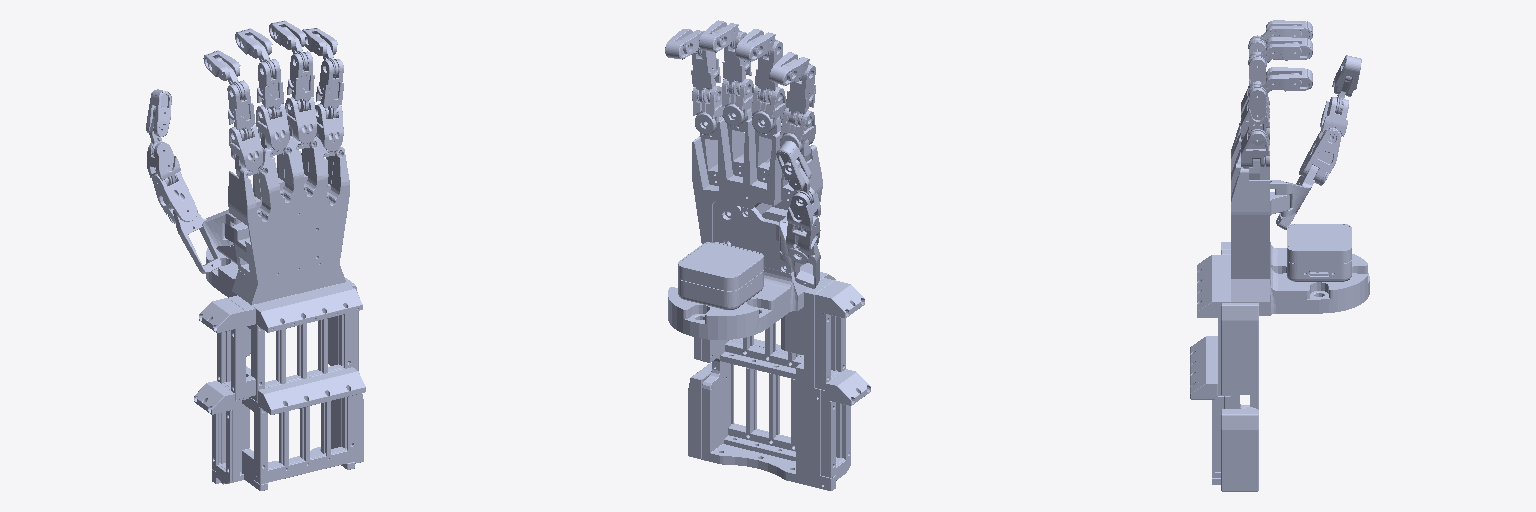
--- Facts derived from the render (not from the file) ---
Views: 3 orthographic renders of the robot side by side, from view 1: azimuth 30°, elevation 25°; view 2: azimuth 150°, elevation 25°; view 3: azimuth 270°, elevation 25°.
Robot: hand_rviz/urdf — 27 links, 26 joints (21 revolute, 5 fixed); root link hand_base_link; default pose: every joint at zero.
Visible links, largest first — view 1: hand_base_link, tcf_link, tca_link, pmf_link, rmf_link, mmf_link, imf_link, mma_link, ima_link, rma_link, tma_link, pma_link (+5 smaller); view 2: hand_base_link, imf_link, pmf_link, mma_link, rma_link, pma_link, tca_link, rmf_link, tma_link, tcf_link, mmf_link, ima_link (+5 smaller); view 3: hand_base_link, tca_link, tcf_link, pdf_link, rdf_link, pma_link, pmf_link, tma_link, mdf_link.
Boxes of the visible links, box(x1,y1,x2,y2) form: hand_base_link: box(194, 126, 365, 490); tcf_link: box(173, 209, 240, 273); tca_link: box(152, 172, 197, 223); pmf_link: box(316, 59, 343, 118); rmf_link: box(287, 51, 314, 111); mmf_link: box(257, 59, 283, 119); imf_link: box(227, 80, 255, 140); mma_link: box(256, 104, 289, 150); ima_link: box(229, 124, 262, 170); rma_link: box(285, 97, 316, 143); tma_link: box(147, 142, 180, 185); pma_link: box(315, 104, 343, 151); hand_base_link: box(668, 108, 870, 490); imf_link: box(786, 64, 815, 125); pmf_link: box(691, 50, 720, 103); mma_link: box(752, 86, 785, 133); rma_link: box(722, 78, 754, 126); pma_link: box(692, 86, 724, 134); tca_link: box(786, 216, 820, 263); rmf_link: box(722, 31, 751, 95); tma_link: box(787, 187, 820, 232); tcf_link: box(779, 217, 820, 288); mmf_link: box(755, 40, 782, 102); ima_link: box(780, 108, 815, 151); hand_base_link: box(1190, 121, 1369, 491); tca_link: box(1299, 129, 1340, 185); tcf_link: box(1270, 165, 1318, 229); pdf_link: box(1266, 67, 1311, 91); rdf_link: box(1266, 37, 1311, 60); pma_link: box(1241, 127, 1269, 166); pmf_link: box(1248, 81, 1266, 137); tma_link: box(1320, 97, 1348, 138); mdf_link: box(1266, 21, 1311, 39).
Bounding box of the posed robot: 0.1185 × 0.1153 × 0.3038 m (x, y, z).
27 mesh visuals loaded from 27 distinct referenced files (27 binary STL).

robot.urdf — hand_rviz/urdf:
<?xml version="1.0" encoding="utf-8"?>
<!-- This URDF was automatically created by SolidWorks to URDF Exporter! Originally created by Stephen Brawner ([email redacted]) 
     Commit Version: 1.6.0-4-g7f85cfe  Build Version: 1.6.7995.38578
     For more information, please see http://wiki.ros.org/sw_urdf_exporter -->
<robot
  name="hand_rviz/urdf">
  <link
    name="hand_base_link">
    <inertial>
      <origin
        xyz="-0.00061429354910202 -0.00944665576411385 0.0223167833764774"
        rpy="0 0 0" />
      <mass
        value="1.38812640347778" />
      <inertia
        ixx="0.000445542321150216"
        ixy="3.50155988030047E-06"
        ixz="4.64398324346647E-07"
        iyy="0.000524208846276378"
        iyz="1.03345252482007E-05"
        izz="0.000497637041063157" />
    </inertial>
    <visual>
      <origin
        xyz="0 0 0"
        rpy="0 0 0" />
      <geometry>
        <mesh
          filename="package://hand_rviz/urdf/meshes/hand_base_link.STL" />
      </geometry>
      <material
        name="">
        <color
          rgba="0.792156862745098 0.819607843137255 0.933333333333333 1" />
      </material>
    </visual>
    <collision>
      <origin
        xyz="0 0 0"
        rpy="0 0 0" />
      <geometry>
        <mesh
          filename="package://hand_rviz/urdf/meshes/hand_base_link.STL" />
      </geometry>
    </collision>
  </link>
  <link
    name="tcf_link">
    <inertial>
      <origin
        xyz="-0.013539870918749 0.00696804614882354 0.000116280993402551"
        rpy="0 0 0" />
      <mass
        value="0.00484999590725353" />
      <inertia
        ixx="7.75462007985153E-07"
        ixy="2.19658485715546E-07"
        ixz="4.35849510085832E-09"
        iyy="9.62045357645233E-07"
        iyz="-1.62755706072683E-07"
        izz="6.84730747333233E-07" />
    </inertial>
    <visual>
      <origin
        xyz="0 0 0"
        rpy="0 0 0" />
      <geometry>
        <mesh
          filename="package://hand_rviz/urdf/meshes/tcf_link.STL" />
      </geometry>
      <material
        name="">
        <color
          rgba="0.792156862745098 0.819607843137255 0.933333333333333 1" />
      </material>
    </visual>
    <collision>
      <origin
        xyz="0 0 0"
        rpy="0 0 0" />
      <geometry>
        <mesh
          filename="package://hand_rviz/urdf/meshes/tcf_link.STL" />
      </geometry>
    </collision>
  </link>
  <joint
    name="tcf_joint"
    type="revolute">
    <origin
      xyz="-0.03245 -0.0217 0.0495"
      rpy="0 0 0" />
    <parent
      link="hand_base_link" />
    <child
      link="tcf_link" />
    <axis
      xyz="0 0 1" />
    <limit
      lower="-1.57"
      upper="0.175"
      effort="0"
      velocity="0" />
  </joint>
  <link
    name="tca_link">
    <inertial>
      <origin
        xyz="0.0104917903510064 -0.000676779323759157 0.00216340571913179"
        rpy="0 0 0" />
      <mass
        value="0.00499478923208696" />
      <inertia
        ixx="2.16030308030573E-07"
        ixy="1.54981546627713E-08"
        ixz="3.4127277536893E-08"
        iyy="5.06187109604147E-07"
        iyz="-6.53335217098174E-10"
        izz="5.03702828276537E-07" />
    </inertial>
    <visual>
      <origin
        xyz="0 0 0"
        rpy="0 0 0" />
      <geometry>
        <mesh
          filename="package://hand_rviz/urdf/meshes/tca_link.STL" />
      </geometry>
      <material
        name="">
        <color
          rgba="0.792156862745098 0.819607843137255 0.933333333333333 1" />
      </material>
    </visual>
    <collision>
      <origin
        xyz="0 0 0"
        rpy="0 0 0" />
      <geometry>
        <mesh
          filename="package://hand_rviz/urdf/meshes/tca_link.STL" />
      </geometry>
    </collision>
  </link>
  <joint
    name="tca_joint"
    type="revolute">
    <origin
      xyz="-0.024 0.01695 0.011491"
      rpy="2.8032 -1.0121 1.9642" />
    <parent
      link="tcf_link" />
    <child
      link="tca_link" />
    <axis
      xyz="0 0 1" />
    <limit
      lower="-0.5"
      upper="1"
      effort="0"
      velocity="0" />
  </joint>
  <link
    name="tma_link">
    <inertial>
      <origin
        xyz="0.00971662082317795 6.7890478227535E-05 0.000726629607537624"
        rpy="0 0 0" />
      <mass
        value="0.00320272686969075" />
      <inertia
        ixx="9.80474055431482E-08"
        ixy="-2.05206873883352E-09"
        ixz="5.83406243383443E-09"
        iyy="1.89906799468114E-07"
        iyz="-8.17308371542074E-11"
        izz="1.95297660560772E-07" />
    </inertial>
    <visual>
      <origin
        xyz="0 0 0"
        rpy="0 0 0" />
      <geometry>
        <mesh
          filename="package://hand_rviz/urdf/meshes/tma_link.STL" />
      </geometry>
      <material
        name="">
        <color
          rgba="0.792156862745098 0.819607843137255 0.933333333333333 1" />
      </material>
    </visual>
    <collision>
      <origin
        xyz="0 0 0"
        rpy="0 0 0" />
      <geometry>
        <mesh
          filename="package://hand_rviz/urdf/meshes/tma_link.STL" />
      </geometry>
    </collision>
  </link>
  <joint
    name="tma_joint"
    type="revolute">
    <origin
      xyz="0.025 -0.0014573 0.0001"
      rpy="-1.5708 0.27479 0" />
    <parent
      link="tca_link" />
    <child
      link="tma_link" />
    <axis
      xyz="0 0 1" />
    <limit
      lower="-1.2"
      upper="0.7"
      effort="0"
      velocity="0" />
  </joint>
  <link
    name="tmf_link">
    <inertial>
      <origin
        xyz="0.010171865697685 -0.00112023068715843 -2.35404821330443E-09"
        rpy="0 0 0" />
      <mass
        value="0.000948811114997913" />
      <inertia
        ixx="8.68411494167366E-09"
        ixy="2.91569669791614E-09"
        ixz="-1.30374967316227E-14"
        iyy="9.65825232359051E-08"
        iyz="-1.9069586142679E-14"
        izz="1.02763635257402E-07" />
    </inertial>
    <visual>
      <origin
        xyz="0 0 0"
        rpy="0 0 0" />
      <geometry>
        <mesh
          filename="package://hand_rviz/urdf/meshes/tmf_link.STL" />
      </geometry>
      <material
        name="">
        <color
          rgba="0.792156862745098 0.819607843137255 0.933333333333333 1" />
      </material>
    </visual>
    <collision>
      <origin
        xyz="0 0 0"
        rpy="0 0 0" />
      <geometry>
        <mesh
          filename="package://hand_rviz/urdf/meshes/tmf_link.STL" />
      </geometry>
    </collision>
  </link>
  <joint
    name="tmf_joint"
    type="revolute">
    <origin
      xyz="0.02 0 0.0015"
      rpy="1.5708 -0.34679 0" />
    <parent
      link="tma_link" />
    <child
      link="tmf_link" />
    <axis
      xyz="0 0 1" />
    <limit
      lower="-0.8"
      upper="1.57"
      effort="0"
      velocity="0" />
  </joint>
  <link
    name="tdf_link">
    <inertial>
      <origin
        xyz="-0.000706794999553423 -7.9780973222171E-05 -0.000112786688034917"
        rpy="0 0 0" />
      <mass
        value="0.00217689228300246" />
      <inertia
        ixx="5.19422563367913E-08"
        ixy="-1.6250540110235E-09"
        ixz="1.45574793265727E-10"
        iyy="1.78158999808894E-07"
        iyz="2.00750263449517E-11"
        izz="1.63515579779239E-07" />
    </inertial>
    <visual>
      <origin
        xyz="0 0 0"
        rpy="0 0 0" />
      <geometry>
        <mesh
          filename="package://hand_rviz/urdf/meshes/tdf_link.STL" />
      </geometry>
      <material
        name="">
        <color
          rgba="0.792156862745098 0.819607843137255 0.933333333333333 1" />
      </material>
    </visual>
    <collision>
      <origin
        xyz="0 0 0"
        rpy="0 0 0" />
      <geometry>
        <mesh
          filename="package://hand_rviz/urdf/meshes/tdf_link.STL" />
      </geometry>
    </collision>
  </link>
  <joint
    name="tdf_joint"
    type="revolute">
    <origin
      xyz="0.025 0 0"
      rpy="0 0 0.1282" />
    <parent
      link="tmf_link" />
    <child
      link="tdf_link" />
    <axis
      xyz="0 0 1" />
    <limit
      lower="0"
      upper="1.25"
      effort="0"
      velocity="0" />
  </joint>
  <link
    name="t_tip_link">
    <inertial>
      <origin
        xyz="-0.00105093780159737 0.00184221193968603 -5.55111512312578E-17"
        rpy="0 0 0" />
      <mass
        value="9.63413917384506E-05" />
      <inertia
        ixx="2.00160190678065E-09"
        ixy="6.47869811757705E-10"
        ixz="-1.12082973000935E-22"
        iyy="1.67304493693404E-09"
        iyz="-5.75439825349878E-23"
        izz="2.11896979425457E-09" />
    </inertial>
    <visual>
      <origin
        xyz="0 0 0"
        rpy="0 0 0" />
      <geometry>
        <mesh
          filename="package://hand_rviz/urdf/meshes/t_tip_link.STL" />
      </geometry>
      <material
        name="">
        <color
          rgba="0.792156862745098 0.819607843137255 0.933333333333333 1" />
      </material>
    </visual>
    <collision>
      <origin
        xyz="0 0 0"
        rpy="0 0 0" />
      <geometry>
        <mesh
          filename="package://hand_rviz/urdf/meshes/t_tip_link.STL" />
      </geometry>
    </collision>
  </link>
  <joint
    name="t_tip"
    type="fixed">
    <origin
      xyz="0.012137 0 0"
      rpy="0 0 0" />
    <parent
      link="tdf_link" />
    <child
      link="t_tip_link" />
    <axis
      xyz="0 0 0" />
  </joint>
  <link
    name="ima_link">
    <inertial>
      <origin
        xyz="0.00545951158432825 -8.86632095186204E-05 0.000675702355864649"
        rpy="0 0 0" />
      <mass
        value="0.00377097433248701" />
      <inertia
        ixx="1.92751114104043E-07"
        ixy="3.86822225253668E-09"
        ixz="1.50761022617964E-08"
        iyy="2.98859727376661E-07"
        iyz="-5.17909336999065E-10"
        izz="2.60279404999028E-07" />
    </inertial>
    <visual>
      <origin
        xyz="0 0 0"
        rpy="0 0 0" />
      <geometry>
        <mesh
          filename="package://hand_rviz/urdf/meshes/ima_link.STL" />
      </geometry>
      <material
        name="">
        <color
          rgba="0.792156862745098 0.819607843137255 0.933333333333333 1" />
      </material>
    </visual>
    <collision>
      <origin
        xyz="0 0 0"
        rpy="0 0 0" />
      <geometry>
        <mesh
          filename="package://hand_rviz/urdf/meshes/ima_link.STL" />
      </geometry>
    </collision>
  </link>
  <joint
    name="ima_joint"
    type="revolute">
    <origin
      xyz="-0.030085 -0.0405 0.11024"
      rpy="-1.5708 -1.4573 -3.1416" />
    <parent
      link="hand_base_link" />
    <child
      link="ima_link" />
    <axis
      xyz="0 0 1" />
    <limit
      lower="-0.436"
      upper="0.436"
      effort="0"
      velocity="0" />
  </joint>
  <link
    name="imf_link">
    <inertial>
      <origin
        xyz="0.0153264557799375 0.000131170231311643 -0.000214215913830931"
        rpy="0 0 0" />
      <mass
        value="0.0035062778446748" />
      <inertia
        ixx="7.49209010355308E-08"
        ixy="-2.77275284746543E-10"
        ixz="-1.59748477244705E-08"
        iyy="3.79952976568586E-07"
        iyz="4.5076371900946E-11"
        izz="3.76775898526847E-07" />
    </inertial>
    <visual>
      <origin
        xyz="0 0 0"
        rpy="0 0 0" />
      <geometry>
        <mesh
          filename="package://hand_rviz/urdf/meshes/imf_link.STL" />
      </geometry>
      <material
        name="">
        <color
          rgba="0.792156862745098 0.819607843137255 0.933333333333333 1" />
      </material>
    </visual>
    <collision>
      <origin
        xyz="0 0 0"
        rpy="0 0 0" />
      <geometry>
        <mesh
          filename="package://hand_rviz/urdf/meshes/imf_link.STL" />
      </geometry>
    </collision>
  </link>
  <joint
    name="imf_joint"
    type="revolute">
    <origin
      xyz="0.017 0 -0.000875"
      rpy="-1.5708 0 0" />
    <parent
      link="ima_link" />
    <child
      link="imf_link" />
    <axis
      xyz="0 0 1" />
    <limit
      lower="-1.57"
      upper="1.57"
      effort="0"
      velocity="0" />
  </joint>
  <link
    name="ipf_link">
    <inertial>
      <origin
        xyz="0.0110133857157522 -0.0013539573318288 4.13325360743011E-09"
        rpy="0 0 0" />
      <mass
        value="0.00108838501206663" />
      <inertia
        ixx="1.06723406101794E-08"
        ixy="4.161856826029E-09"
        ixz="1.47097799559351E-14"
        iyy="1.13635444630545E-07"
        iyz="-1.2894056068084E-14"
        izz="1.21308280596702E-07" />
    </inertial>
    <visual>
      <origin
        xyz="0 0 0"
        rpy="0 0 0" />
      <geometry>
        <mesh
          filename="package://hand_rviz/urdf/meshes/ipf_link.STL" />
      </geometry>
      <material
        name="">
        <color
          rgba="0.792156862745098 0.819607843137255 0.933333333333333 1" />
      </material>
    </visual>
    <collision>
      <origin
        xyz="0 0 0"
        rpy="0 0 0" />
      <geometry>
        <mesh
          filename="package://hand_rviz/urdf/meshes/ipf_link.STL" />
      </geometry>
    </collision>
  </link>
  <joint
    name="ipf_joint"
    type="revolute">
    <origin
      xyz="0.031 0 0"
      rpy="0 0 1.1732" />
    <parent
      link="imf_link" />
    <child
      link="ipf_link" />
    <axis
      xyz="0 0 1" />
    <limit
      lower="-0.873"
      upper="1.57"
      effort="0"
      velocity="0" />
  </joint>
  <link
    name="idf_link">
    <inertial>
      <origin
        xyz="-0.00394721683074047 -0.000117912503330819 -0.00010306810364947"
        rpy="0 0 0" />
      <mass
        value="0.00213606646468497" />
      <inertia
        ixx="5.3704768389118E-08"
        ixy="-1.93680982279683E-09"
        ixz="8.38611839998589E-10"
        iyy="1.74117816677213E-07"
        iyz="2.63400446821E-11"
        izz="1.56263328704583E-07" />
    </inertial>
    <visual>
      <origin
        xyz="0 0 0"
        rpy="0 0 0" />
      <geometry>
        <mesh
          filename="package://hand_rviz/urdf/meshes/idf_link.STL" />
      </geometry>
      <material
        name="">
        <color
          rgba="0.792156862745098 0.819607843137255 0.933333333333333 1" />
      </material>
    </visual>
    <collision>
      <origin
        xyz="0 0 0"
        rpy="0 0 0" />
      <geometry>
        <mesh
          filename="package://hand_rviz/urdf/meshes/idf_link.STL" />
      </geometry>
    </collision>
  </link>
  <joint
    name="idf_joint"
    type="revolute">
    <origin
      xyz="0.02618 0 0"
      rpy="0 0 0.39762" />
    <parent
      link="ipf_link" />
    <child
      link="idf_link" />
    <axis
      xyz="0 0 1" />
    <limit
      lower="0"
      upper="1.25"
      effort="0"
      velocity="0" />
  </joint>
  <link
    name="i_tip_link">
    <inertial>
      <origin
        xyz="-0.00104592121213919 0.0018422237895932 -2.22478285794026E-16"
        rpy="0 0 0" />
      <mass
        value="9.6341391738565E-05" />
      <inertia
        ixx="2.00160190678836E-09"
        ixy="6.47869811756371E-10"
        ixz="-1.91247415125344E-23"
        iyy="1.67304493693434E-09"
        iyz="9.93617980697945E-24"
        izz="2.11896979425816E-09" />
    </inertial>
    <visual>
      <origin
        xyz="0 0 0"
        rpy="0 0 0" />
      <geometry>
        <mesh
          filename="package://hand_rviz/urdf/meshes/i_tip_link.STL" />
      </geometry>
      <material
        name="">
        <color
          rgba="0.792156862745098 0.819607843137255 0.933333333333333 1" />
      </material>
    </visual>
    <collision>
      <origin
        xyz="0 0 0"
        rpy="0 0 0" />
      <geometry>
        <mesh
          filename="package://hand_rviz/urdf/meshes/i_tip_link.STL" />
      </geometry>
    </collision>
  </link>
  <joint
    name="i_tip"
    type="fixed">
    <origin
      xyz="0.0091323 0 0"
      rpy="0 0 0" />
    <parent
      link="idf_link" />
    <child
      link="i_tip_link" />
    <axis
      xyz="0 0 0" />
  </joint>
  <link
    name="mma_link">
    <inertial>
      <origin
        xyz="0.00545950849170132 -8.86601109218194E-05 0.000675701372274671"
        rpy="0 0 0" />
      <mass
        value="0.00377096877435373" />
      <inertia
        ixx="1.927510016226E-07"
        ixy="3.86819116341496E-09"
        ixz="1.50761562051395E-08"
        iyy="2.98859651077226E-07"
        iyz="-5.17843628266035E-10"
        izz="2.60279335278557E-07" />
    </inertial>
    <visual>
      <origin
        xyz="0 0 0"
        rpy="0 0 0" />
      <geometry>
        <mesh
          filename="package://hand_rviz/urdf/meshes/mma_link.STL" />
      </geometry>
      <material
        name="">
        <color
          rgba="0.792156862745098 0.819607843137255 0.933333333333333 1" />
      </material>
    </visual>
    <collision>
      <origin
        xyz="0 0 0"
        rpy="0 0 0" />
      <geometry>
        <mesh
          filename="package://hand_rviz/urdf/meshes/mma_link.STL" />
      </geometry>
    </collision>
  </link>
  <joint
    name="mma_joint"
    type="revolute">
    <origin
      xyz="-0.010267 -0.0405 0.12046"
      rpy="-1.5708 -1.5272 -3.1416" />
    <parent
      link="hand_base_link" />
    <child
      link="mma_link" />
    <axis
      xyz="0 0 1" />
    <limit
      lower="-0.436"
      upper="0.436"
      effort="0"
      velocity="0" />
  </joint>
  <link
    name="mmf_link">
    <inertial>
      <origin
        xyz="0.0153264556897269 0.000131170217745144 -0.000214215930973235"
        rpy="0 0 0" />
      <mass
        value="0.0035062779381524" />
      <inertia
        ixx="7.4920901109795E-08"
        ixy="-2.7727486019509E-10"
        ixz="-1.59748485638189E-08"
        iyy="3.79952977330562E-07"
        iyz="4.50761274008323E-11"
        izz="3.76775899218745E-07" />
    </inertial>
    <visual>
      <origin
        xyz="0 0 0"
        rpy="0 0 0" />
      <geometry>
        <mesh
          filename="package://hand_rviz/urdf/meshes/mmf_link.STL" />
      </geometry>
      <material
        name="">
        <color
          rgba="0.792156862745098 0.819607843137255 0.933333333333333 1" />
      </material>
    </visual>
    <collision>
      <origin
        xyz="0 0 0"
        rpy="0 0 0" />
      <geometry>
        <mesh
          filename="package://hand_rviz/urdf/meshes/mmf_link.STL" />
      </geometry>
    </collision>
  </link>
  <joint
    name="mmf_joint"
    type="revolute">
    <origin
      xyz="0.017 0 -0.000875"
      rpy="-1.5708 0 0" />
    <parent
      link="mma_link" />
    <child
      link="mmf_link" />
    <axis
      xyz="0 0 1" />
    <limit
      lower="-1.57"
      upper="1.57"
      effort="0"
      velocity="0" />
  </joint>
  <link
    name="mpf_link">
    <inertial>
      <origin
        xyz="0.0110133857157522 -0.0013539573318288 4.13325359376916E-09"
        rpy="0 0 0" />
      <mass
        value="0.00108838501206664" />
      <inertia
        ixx="1.06723406101795E-08"
        ixy="4.16185682602903E-09"
        ixz="1.47097800929716E-14"
        iyy="1.13635444630546E-07"
        iyz="-1.28940560733662E-14"
        izz="1.21308280596703E-07" />
    </inertial>
    <visual>
      <origin
        xyz="0 0 0"
        rpy="0 0 0" />
      <geometry>
        <mesh
          filename="package://hand_rviz/urdf/meshes/mpf_link.STL" />
      </geometry>
      <material
        name="">
        <color
          rgba="0.792156862745098 0.819607843137255 0.933333333333333 1" />
      </material>
    </visual>
    <collision>
      <origin
        xyz="0 0 0"
        rpy="0 0 0" />
      <geometry>
        <mesh
          filename="package://hand_rviz/urdf/meshes/mpf_link.STL" />
      </geometry>
    </collision>
  </link>
  <joint
    name="mpf_joint"
    type="revolute">
    <origin
      xyz="0.031 0 0"
      rpy="0 0 1.1732" />
    <parent
      link="mmf_link" />
    <child
      link="mpf_link" />
    <axis
      xyz="0 0 1" />
    <limit
      lower="-0.873"
      upper="1.57"
      effort="0"
      velocity="0" />
  </joint>
  <link
    name="mdf_link">
    <inertial>
      <origin
        xyz="-0.00394721684620039 -0.000117912464608128 -0.000103068054280695"
        rpy="0 0 0" />
      <mass
        value="0.00213606647535568" />
      <inertia
        ixx="5.37047707729127E-08"
        ixy="-1.93681092637364E-09"
        ixz="8.38611194263258E-10"
        iyy="1.74117815271046E-07"
        iyz="2.63402321380885E-11"
        izz="1.56263329372874E-07" />
    </inertial>
    <visual>
      <origin
        xyz="0 0 0"
        rpy="0 0 0" />
      <geometry>
        <mesh
          filename="package://hand_rviz/urdf/meshes/mdf_link.STL" />
      </geometry>
      <material
        name="">
        <color
          rgba="0.792156862745098 0.819607843137255 0.933333333333333 1" />
      </material>
    </visual>
    <collision>
      <origin
        xyz="0 0 0"
        rpy="0 0 0" />
      <geometry>
        <mesh
          filename="package://hand_rviz/urdf/meshes/mdf_link.STL" />
      </geometry>
    </collision>
  </link>
  <joint
    name="mdf_joint"
    type="revolute">
    <origin
      xyz="0.02618 0 0"
      rpy="0 0 0.39762" />
    <parent
      link="mpf_link" />
    <child
      link="mdf_link" />
    <axis
      xyz="0 0 1" />
    <limit
      lower="0"
      upper="1.25"
      effort="0"
      velocity="0" />
  </joint>
  <link
    name="m_tip_link">
    <inertial>
      <origin
        xyz="-0.00104592121213915 0.00184222378959342 -4.40945023549855E-16"
        rpy="0 0 0" />
      <mass
        value="9.63413917385605E-05" />
      <inertia
        ixx="2.0016019067882E-09"
        ixy="6.47869811756382E-10"
        ixz="5.24862299752905E-24"
        iyy="1.67304493693433E-09"
        iyz="-1.38679189130499E-23"
        izz="2.11896979425803E-09" />
    </inertial>
    <visual>
      <origin
        xyz="0 0 0"
        rpy="0 0 0" />
      <geometry>
        <mesh
          filename="package://hand_rviz/urdf/meshes/m_tip_link.STL" />
      </geometry>
      <material
        name="">
        <color
          rgba="0.792156862745098 0.819607843137255 0.933333333333333 1" />
      </material>
    </visual>
    <collision>
      <origin
        xyz="0 0 0"
        rpy="0 0 0" />
      <geometry>
        <mesh
          filename="package://hand_rviz/urdf/meshes/m_tip_link.STL" />
      </geometry>
    </collision>
  </link>
  <joint
    name="m_tip"
    type="fixed">
    <origin
      xyz="0.0091323 0 0"
      rpy="0 0 0" />
    <parent
      link="mdf_link" />
    <child
      link="m_tip_link" />
    <axis
      xyz="0 0 0" />
  </joint>
  <link
    name="rma_link">
    <inertial>
      <origin
        xyz="0.00545951269553185 -8.86616255767764E-05 0.000675699929609706"
        rpy="0 0 0" />
      <mass
        value="0.00377097155039619" />
      <inertia
        ixx="1.92751094137635E-07"
        ixy="3.86811200554875E-09"
        ixz="1.5076223370178E-08"
        iyy="2.98859812161307E-07"
        iyz="-5.17724319697699E-10"
        izz="2.60279479059688E-07" />
    </inertial>
    <visual>
      <origin
        xyz="0 0 0"
        rpy="0 0 0" />
      <geometry>
        <mesh
          filename="package://hand_rviz/urdf/meshes/rma_link.STL" />
      </geometry>
      <material
        name="">
        <color
          rgba="0.792156862745098 0.819607843137255 0.933333333333333 1" />
      </material>
    </visual>
    <collision>
      <origin
        xyz="0 0 0"
        rpy="0 0 0" />
      <geometry>
        <mesh
          filename="package://hand_rviz/urdf/meshes/rma_link.STL" />
      </geometry>
    </collision>
  </link>
  <joint
    name="rma_joint"
    type="revolute">
    <origin
      xyz="0.010267 -0.0405 0.12046"
      rpy="1.5708 -1.5272 0" />
    <parent
      link="hand_base_link" />
    <child
      link="rma_link" />
    <axis
      xyz="0 0 1" />
    <limit
      lower="-0.436"
      upper="0.436"
      effort="0"
      velocity="0" />
  </joint>
  <link
    name="rmf_link">
    <inertial>
      <origin
        xyz="0.0153264556311606 0.000131170224199759 -0.000214215922257998"
        rpy="0 0 0" />
      <mass
        value="0.00350627800305113" />
      <inertia
        ixx="7.49209011449323E-08"
        ixy="-2.77274109498896E-10"
        ixz="-1.59748486218069E-08"
        iyy="3.79952978018082E-07"
        iyz="4.50759710300356E-11"
        izz="3.76775899854073E-07" />
    </inertial>
    <visual>
      <origin
        xyz="0 0 0"
        rpy="0 0 0" />
      <geometry>
        <mesh
          filename="package://hand_rviz/urdf/meshes/rmf_link.STL" />
      </geometry>
      <material
        name="">
        <color
          rgba="0.792156862745098 0.819607843137255 0.933333333333333 1" />
      </material>
    </visual>
    <collision>
      <origin
        xyz="0 0 0"
        rpy="0 0 0" />
      <geometry>
        <mesh
          filename="package://hand_rviz/urdf/meshes/rmf_link.STL" />
      </geometry>
    </collision>
  </link>
  <joint
    name="rmf_joint"
    type="revolute">
    <origin
      xyz="0.017 0 -0.000875"
      rpy="-1.5708 0 0" />
    <parent
      link="rma_link" />
    <child
      link="rmf_link" />
    <axis
      xyz="0 0 1" />
    <limit
      lower="-1.57"
      upper="1.57"
      effort="0"
      velocity="0" />
  </joint>
  <link
    name="rpf_link">
    <inertial>
      <origin
        xyz="0.0110133857157522 -0.00135395733182886 4.13325358357766E-09"
        rpy="0 0 0" />
      <mass
        value="0.00108838501206664" />
      <inertia
        ixx="1.06723406101795E-08"
        ixy="4.16185682602892E-09"
        ixz="1.47097800308918E-14"
        iyy="1.13635444630547E-07"
        iyz="-1.28940560734154E-14"
        izz="1.21308280596703E-07" />
    </inertial>
    <visual>
      <origin
        xyz="0 0 0"
        rpy="0 0 0" />
      <geometry>
        <mesh
          filename="package://hand_rviz/urdf/meshes/rpf_link.STL" />
      </geometry>
      <material
        name="">
        <color
          rgba="0.792156862745098 0.819607843137255 0.933333333333333 1" />
      </material>
    </visual>
    <collision>
      <origin
        xyz="0 0 0"
        rpy="0 0 0" />
      <geometry>
        <mesh
          filename="package://hand_rviz/urdf/meshes/rpf_link.STL" />
      </geometry>
    </collision>
  </link>
  <joint
    name="rpf_joint"
    type="revolute">
    <origin
      xyz="0.031 0 0"
      rpy="0 0 1.17317577259539" />
    <parent
      link="rmf_link" />
    <child
      link="rpf_link" />
    <axis
      xyz="0 0 1" />
    <limit
      lower="-0.873"
      upper="1.57"
      effort="0"
      velocity="0" />
  </joint>
  <link
    name="rdf_link">
    <inertial>
      <origin
        xyz="-0.00394721685418632 -0.000117912489628058 -0.000103068004632037"
        rpy="0 0 0" />
      <mass
        value="0.002136066487395" />
      <inertia
        ixx="5.37047728994674E-08"
        ixy="-1.93681073233007E-09"
        ixz="8.3861055476539E-10"
        iyy="1.74117814198901E-07"
        iyz="2.63403970018723E-11"
        izz="1.5626333008088E-07" />
    </inertial>
    <visual>
      <origin
        xyz="0 0 0"
        rpy="0 0 0" />
      <geometry>
        <mesh
          filename="package://hand_rviz/urdf/meshes/rdf_link.STL" />
      </geometry>
      <material
        name="">
        <color
          rgba="0.792156862745098 0.819607843137255 0.933333333333333 1" />
      </material>
    </visual>
    <collision>
      <origin
        xyz="0 0 0"
        rpy="0 0 0" />
      <geometry>
        <mesh
          filename="package://hand_rviz/urdf/meshes/rdf_link.STL" />
      </geometry>
    </collision>
  </link>
  <joint
    name="rdf_joint"
    type="revolute">
    <origin
      xyz="0.02618 0 0"
      rpy="0 0 0.397620554199504" />
    <parent
      link="rpf_link" />
    <child
      link="rdf_link" />
    <axis
      xyz="0 0 1" />
    <limit
      lower="0"
      upper="1.25"
      effort="0"
      velocity="0" />
  </joint>
  <link
    name="r_tip_link">
    <inertial>
      <origin
        xyz="-0.00104592121213923 0.00184222378959314 -4.44414470501808E-16"
        rpy="0 0 0" />
      <mass
        value="9.63413917385707E-05" />
      <inertia
        ixx="2.0016019067885E-09"
        ixy="6.47869811756383E-10"
        ixz="7.57635645960032E-24"
        iyy="1.67304493693444E-09"
        iyz="-9.39810472323535E-24"
        izz="2.11896979425827E-09" />
    </inertial>
    <visual>
      <origin
        xyz="0 0 0"
        rpy="0 0 0" />
      <geometry>
        <mesh
          filename="package://hand_rviz/urdf/meshes/r_tip_link.STL" />
      </geometry>
      <material
        name="">
        <color
          rgba="0.792156862745098 0.819607843137255 0.933333333333333 1" />
      </material>
    </visual>
    <collision>
      <origin
        xyz="0 0 0"
        rpy="0 0 0" />
      <geometry>
        <mesh
          filename="package://hand_rviz/urdf/meshes/r_tip_link.STL" />
      </geometry>
    </collision>
  </link>
  <joint
    name="r_tip"
    type="fixed">
    <origin
      xyz="0.00913233682828257 0 0"
      rpy="0 0 0" />
    <parent
      link="rdf_link" />
    <child
      link="r_tip_link" />
    <axis
      xyz="0 0 0" />
  </joint>
  <link
    name="pma_link">
    <inertial>
      <origin
        xyz="0.0054595149828438 -8.86628775930531E-05 0.000675699122759423"
        rpy="0 0 0" />
      <mass
        value="0.00377097300672915" />
      <inertia
        ixx="1.92751149082069E-07"
        ixy="3.86809745111146E-09"
        ixz="1.50762369878534E-08"
        iyy="2.98859887634649E-07"
        iyz="-5.17695482481916E-10"
        izz="2.60279570555227E-07" />
    </inertial>
    <visual>
      <origin
        xyz="0 0 0"
        rpy="0 0 0" />
      <geometry>
        <mesh
          filename="package://hand_rviz/urdf/meshes/pma_link.STL" />
      </geometry>
      <material
        name="">
        <color
          rgba="0.792156862745098 0.819607843137255 0.933333333333333 1" />
      </material>
    </visual>
    <collision>
      <origin
        xyz="0 0 0"
        rpy="0 0 0" />
      <geometry>
        <mesh
          filename="package://hand_rviz/urdf/meshes/pma_link.STL" />
      </geometry>
    </collision>
  </link>
  <joint
    name="pma_joint"
    type="revolute">
    <origin
      xyz="0.030085 -0.0405 0.11024"
      rpy="1.5708 -1.4573 0" />
    <parent
      link="hand_base_link" />
    <child
      link="pma_link" />
    <axis
      xyz="0 0 1" />
    <limit
      lower="-0.436"
      upper="0.436"
      effort="0"
      velocity="0" />
  </joint>
  <link
    name="pmf_link">
    <inertial>
      <origin
        xyz="0.0153264556452624 0.00013117022966441 -0.000214215915456326"
        rpy="0 0 0" />
      <mass
        value="0.00350627798987508" />
      <inertia
        ixx="7.49209011315719E-08"
        ixy="-2.7727406878371E-10"
        ixz="-1.59748483877381E-08"
        iyy="3.799529779382E-07"
        iyz="4.50760084554193E-11"
        izz="3.76775899782436E-07" />
    </inertial>
    <visual>
      <origin
        xyz="0 0 0"
        rpy="0 0 0" />
      <geometry>
        <mesh
          filename="package://hand_rviz/urdf/meshes/pmf_link.STL" />
      </geometry>
      <material
        name="">
        <color
          rgba="0.792156862745098 0.819607843137255 0.933333333333333 1" />
      </material>
    </visual>
    <collision>
      <origin
        xyz="0 0 0"
        rpy="0 0 0" />
      <geometry>
        <mesh
          filename="package://hand_rviz/urdf/meshes/pmf_link.STL" />
      </geometry>
    </collision>
  </link>
  <joint
    name="pmf_joint"
    type="revolute">
    <origin
      xyz="0.017 0 -0.000875"
      rpy="-1.5707963267949 0 0" />
    <parent
      link="pma_link" />
    <child
      link="pmf_link" />
    <axis
      xyz="0 0 1" />
    <limit
      lower="-1.57"
      upper="1.57"
      effort="0"
      velocity="0" />
  </joint>
  <link
    name="ppf_link">
    <inertial>
      <origin
        xyz="0.0110133857157522 -0.0013539573318288 4.13325359225128E-09"
        rpy="0 0 0" />
      <mass
        value="0.00108838501206663" />
      <inertia
        ixx="1.06723406101795E-08"
        ixy="4.16185682602898E-09"
        ixz="1.47097801103414E-14"
        iyy="1.13635444630546E-07"
        iyz="-1.28940560820316E-14"
        izz="1.21308280596702E-07" />
    </inertial>
    <visual>
      <origin
        xyz="0 0 0"
        rpy="0 0 0" />
      <geometry>
        <mesh
          filename="package://hand_rviz/urdf/meshes/ppf_link.STL" />
      </geometry>
      <material
        name="">
        <color
          rgba="0.792156862745098 0.819607843137255 0.933333333333333 1" />
      </material>
    </visual>
    <collision>
      <origin
        xyz="0 0 0"
        rpy="0 0 0" />
      <geometry>
        <mesh
          filename="package://hand_rviz/urdf/meshes/ppf_link.STL" />
      </geometry>
    </collision>
  </link>
  <joint
    name="ppf_joint"
    type="revolute">
    <origin
      xyz="0.031 0 0"
      rpy="0 0 1.17317577259539" />
    <parent
      link="pmf_link" />
    <child
      link="ppf_link" />
    <axis
      xyz="0 0 1" />
    <limit
      lower="-0.873"
      upper="1.57"
      effort="0"
      velocity="0" />
  </joint>
  <link
    name="pdf_link">
    <inertial>
      <origin
        xyz="-0.00394721685373974 -0.000117912575368528 -0.000103067960665844"
        rpy="0 0 0" />
      <mass
        value="0.00213606649935726" />
      <inertia
        ixx="5.37047745131982E-08"
        ixy="-1.93680926392119E-09"
        ixz="8.38609998331635E-10"
        iyy="1.74117813589534E-07"
        iyz="2.63405188882414E-11"
        izz="1.56263330743312E-07" />
    </inertial>
    <visual>
      <origin
        xyz="0 0 0"
        rpy="0 0 0" />
      <geometry>
        <mesh
          filename="package://hand_rviz/urdf/meshes/pdf_link.STL" />
      </geometry>
      <material
        name="">
        <color
          rgba="0.792156862745098 0.819607843137255 0.933333333333333 1" />
      </material>
    </visual>
    <collision>
      <origin
        xyz="0 0 0"
        rpy="0 0 0" />
      <geometry>
        <mesh
          filename="package://hand_rviz/urdf/meshes/pdf_link.STL" />
      </geometry>
    </collision>
  </link>
  <joint
    name="pdf_joint"
    type="revolute">
    <origin
      xyz="0.02618 0 0"
      rpy="0 0 0.397620554199505" />
    <parent
      link="ppf_link" />
    <child
      link="pdf_link" />
    <axis
      xyz="0 0 1" />
    <limit
      lower="0"
      upper="1.25"
      effort="0"
      velocity="0" />
  </joint>
  <link
    name="p_tip_link">
    <inertial>
      <origin
        xyz="-0.00104592121213926 0.00184222378959337 -2.63677968348475E-16"
        rpy="0 0 0" />
      <mass
        value="9.63413917385593E-05" />
      <inertia
        ixx="2.00160190678821E-09"
        ixy="6.47869811756375E-10"
        ixz="7.32904466230684E-24"
        iyy="1.67304493693428E-09"
        iyz="8.97525324661129E-24"
        izz="2.11896979425809E-09" />
    </inertial>
    <visual>
      <origin
        xyz="0 0 0"
        rpy="0 0 0" />
      <geometry>
        <mesh
          filename="package://hand_rviz/urdf/meshes/p_tip_link.STL" />
      </geometry>
      <material
        name="">
        <color
          rgba="0.792156862745098 0.819607843137255 0.933333333333333 1" />
      </material>
    </visual>
    <collision>
      <origin
        xyz="0 0 0"
        rpy="0 0 0" />
      <geometry>
        <mesh
          filename="package://hand_rviz/urdf/meshes/p_tip_link.STL" />
      </geometry>
    </collision>
  </link>
  <joint
    name="p_tip"
    type="fixed">
    <origin
      xyz="0.00913233682828257 0 0"
      rpy="0 0 0" />
    <parent
      link="pdf_link" />
    <child
      link="p_tip_link" />
    <axis
      xyz="0 0 0" />
  </joint>
</robot>
